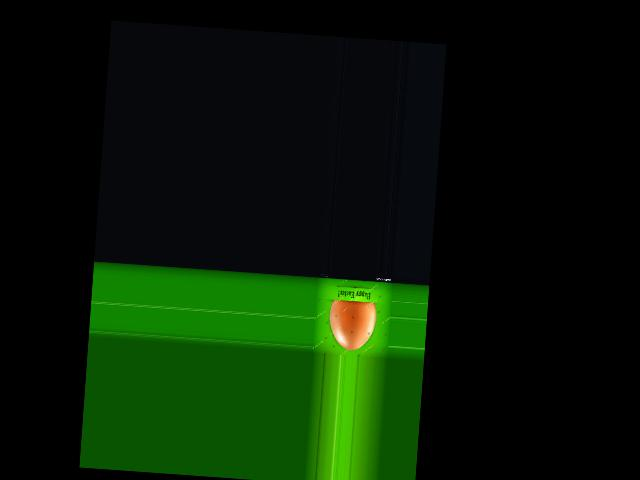egg: (327, 299, 376, 352)
